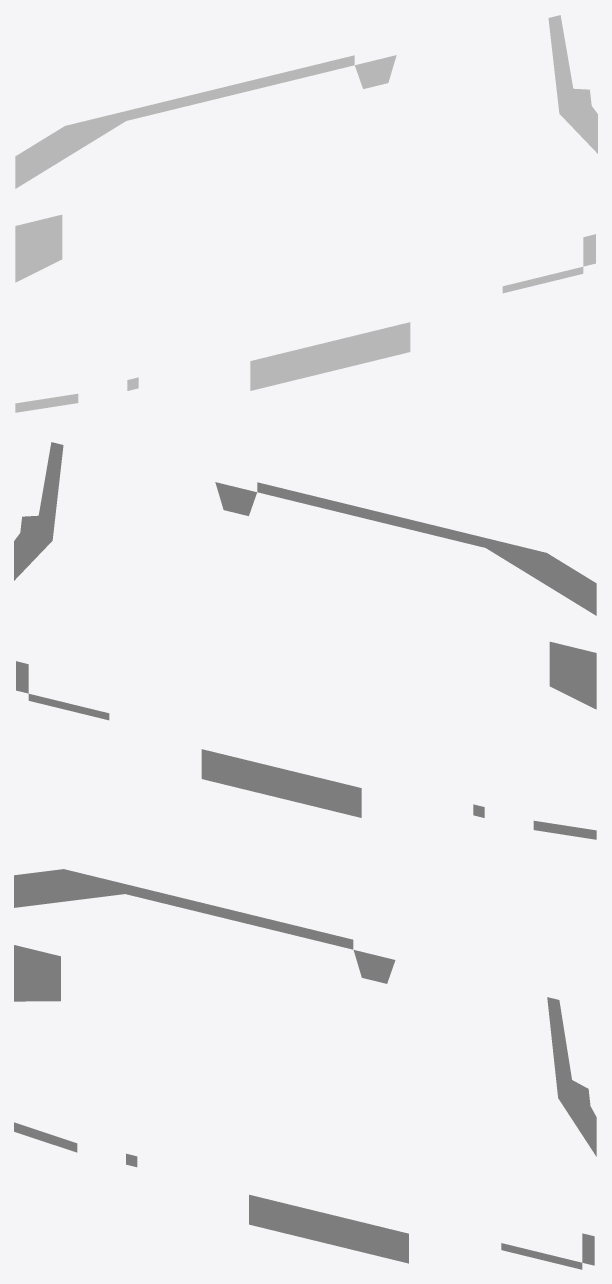
The model's file is Gate_02_Derelict_04_0.glb.
3 views of the same model, one above another, from view 1: azimuth 30°, elevation 25°; view 2: azimuth 150°, elevation 25°; view 3: azimuth 330°, elevation 25° (orthographic).
Parts seen in each view (by area): view 1: gate_02_Derelict_04_LOD0; view 2: gate_02_Derelict_04_LOD0; view 3: gate_02_Derelict_04_LOD0.
Boxes of the visible parts, left/top/right/bottom form: gate_02_Derelict_04_LOD0: left=15, top=15, right=597, bottom=412; gate_02_Derelict_04_LOD0: left=14, top=442, right=596, bottom=839; gate_02_Derelict_04_LOD0: left=14, top=869, right=596, bottom=1269.
Size of what is drawn, in the model's own units: 26.98 by 13.73 by 0.1.
Materials: 1 (1 with a texture image).
